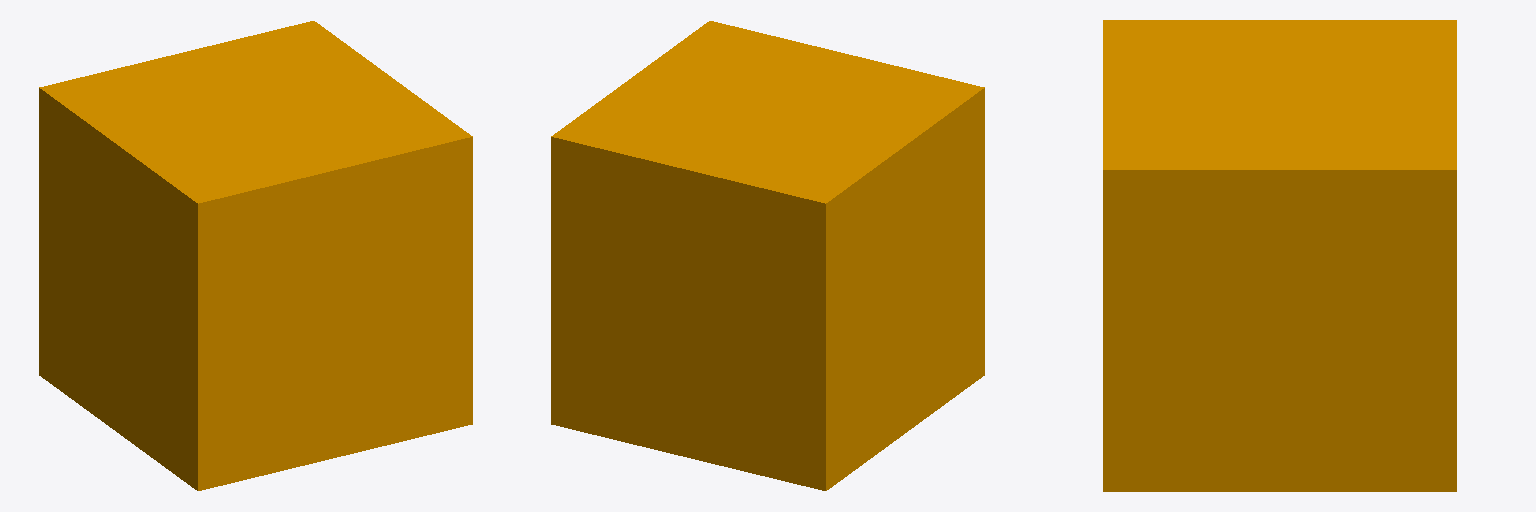
URDF robot description (cube.urdf):
<?xml version="1.0" encoding="utf-8"?>
<robot name="cube.urdf">
  <link name="baseLink">
    <contact>
      <lateral_friction value="0.5"/>
      <rolling_friction value="0.001"/>
      <spinning_friction value="0.001"/>
    </contact>
    <inertial>
      <origin rpy="0 0 0" xyz="0 0 0"/>
       <mass value="0.05"/>
       <inertia ixx="1" ixy="0" ixz="0" iyy="1" iyz="0" izz="1"/>
    </inertial>
    <visual>
      <origin rpy="0 0 0" xyz="0 0 0"/>
      <geometry>
         <mesh filename="cube.obj"/>
      </geometry>
    </visual>
    <collision>
      <origin rpy="0 0 0" xyz="0 0 0"/>
      <geometry>
	 	    <mesh filename="cube.obj"/>
      </geometry>
    </collision>
  </link>
</robot>

--- Render facts (derived) ---
The picture shows the robot from 3 angles, left to right: view 1: azimuth 30°, elevation 25°; view 2: azimuth 150°, elevation 25°; view 3: azimuth 270°, elevation 25°; orthographic projection.
Robot: cube.urdf — 1 links, 0 joints (none); root link baseLink; default pose: every joint at zero.
Visible links, largest first — view 1: baseLink; view 2: baseLink; view 3: baseLink.
Boxes of the visible links, <box> form: baseLink: <box>39,21,472,490</box>; baseLink: <box>551,21,984,490</box>; baseLink: <box>1103,20,1456,491</box>.
Size in the robot's own frame: 0.045 by 0.045 by 0.045 metres.
Meshes: 1 distinct files referenced, 1 mesh visuals loaded (1 OBJ).